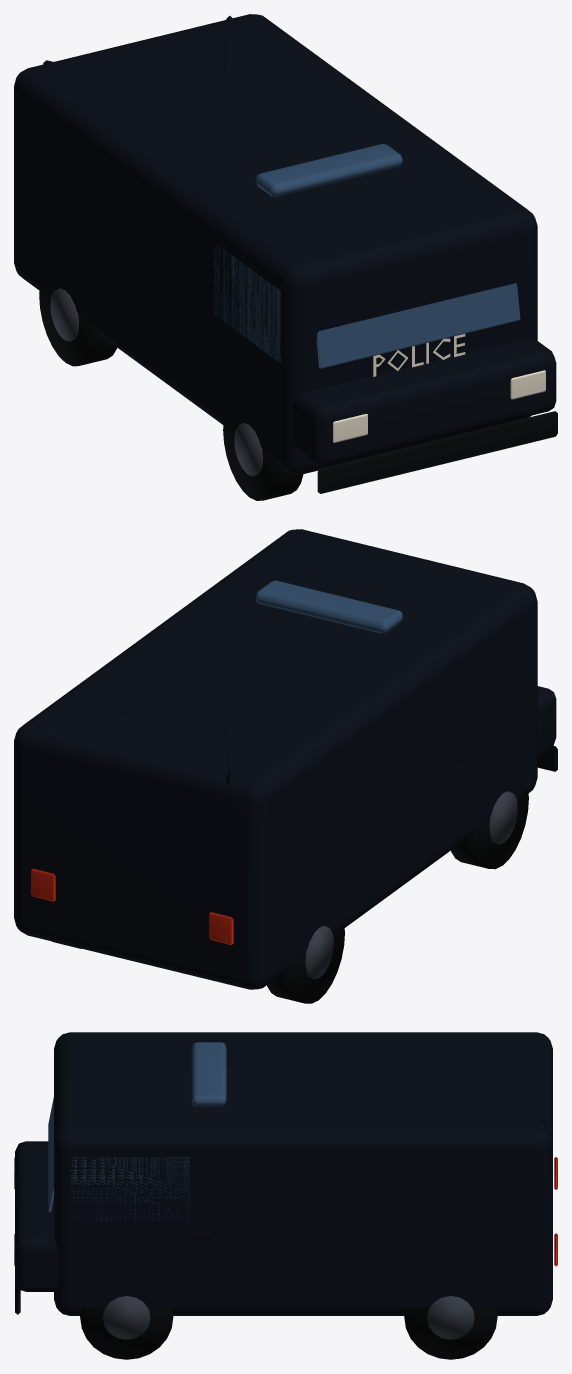
File: police-van-open.glb
3 renders of one model, top to bottom at view 1: azimuth 30°, elevation 25°; view 2: azimuth 150°, elevation 25°; view 3: azimuth 270°, elevation 25°, orthographic. The views are drawn at different scales.
Visible parts, largest first — view 1: police-van-open; view 2: police-van-open; view 3: police-van-open.
Part boxes in pixels (x1=…): police-van-open: x1=14, y1=14, x2=557, y2=500; police-van-open: x1=14, y1=529, x2=557, y2=1003; police-van-open: x1=14, y1=1032, x2=557, y2=1359.
Bounding box in the file's own units: 2.4 × 2.4 × 5.
Materials: 1 (1 with a texture image).
